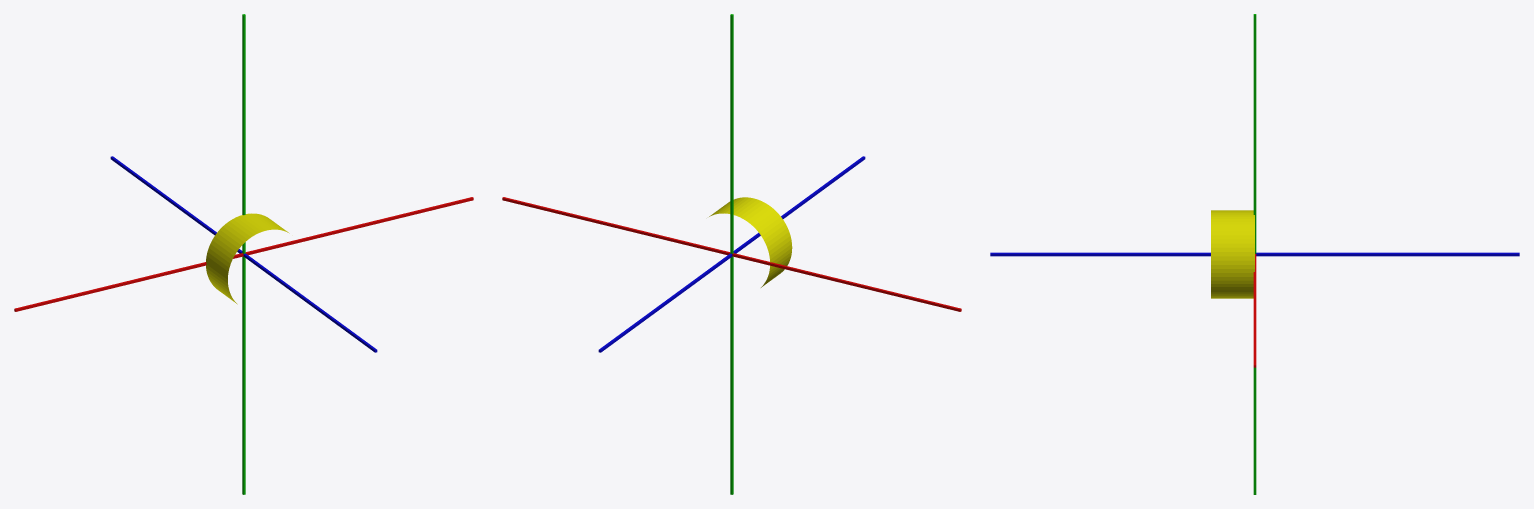
The model's file is Cilindro_Unitario.glb.
3 views of the same model, side by side, from view 1: azimuth 30°, elevation 25°; view 2: azimuth 150°, elevation 25°; view 3: azimuth 270°, elevation 25° (orthographic).
Visible parts, largest first — view 1: world; view 2: world; view 3: world.
Boxes of the visible parts, x1=… form: world: x1=14, y1=14, x2=473, y2=494; world: x1=502, y1=14, x2=961, y2=494; world: x1=990, y1=14, x2=1519, y2=494.
Size of the model in its own units: 12 by 12 by 12.
